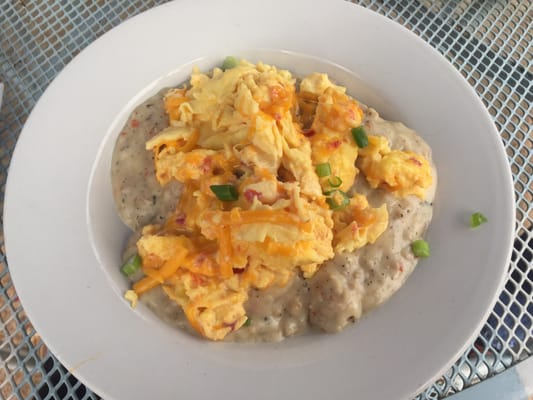sushi: (13, 1, 520, 395)
